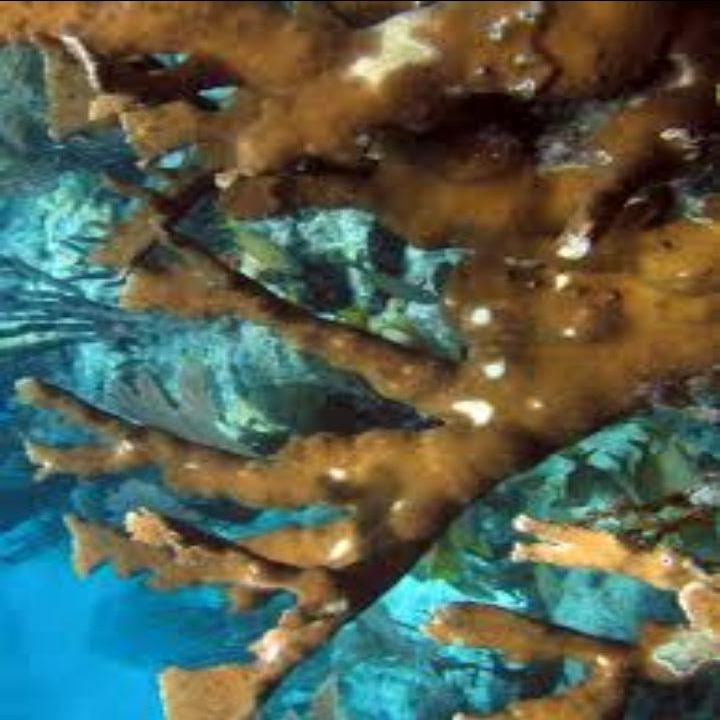White Pox Disease: (180, 14, 684, 661)
